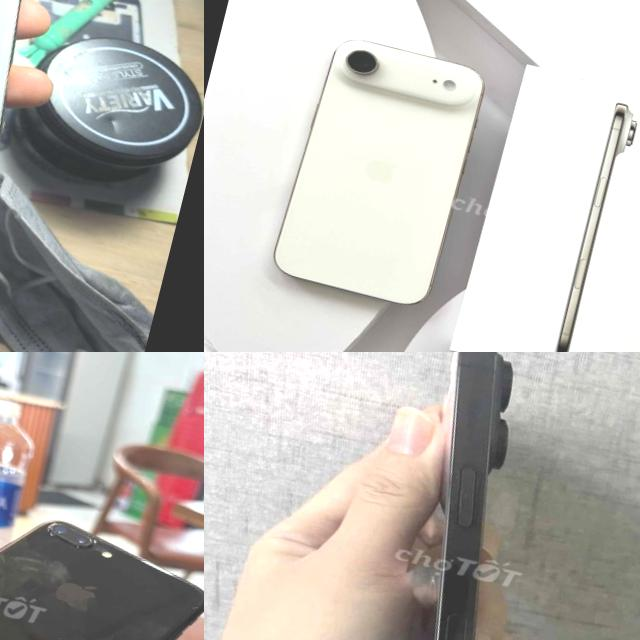scratch: (37, 522, 107, 564)
